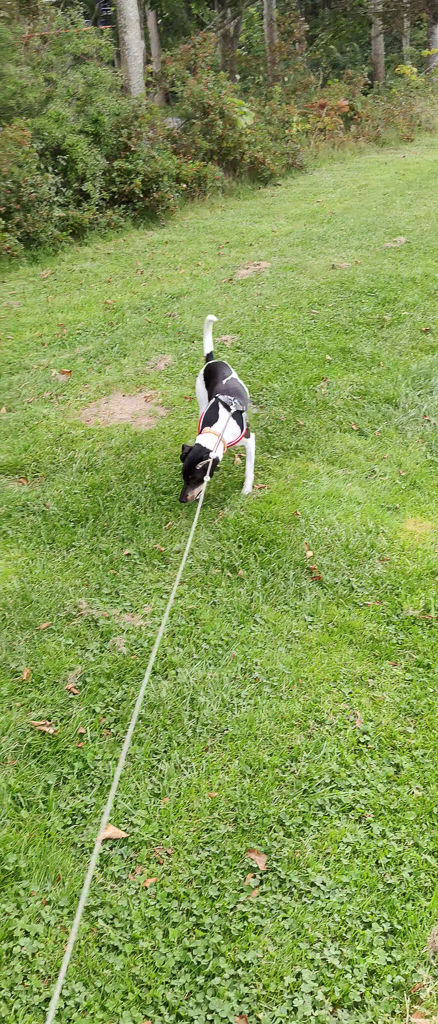Dog: (157, 309, 279, 515)
